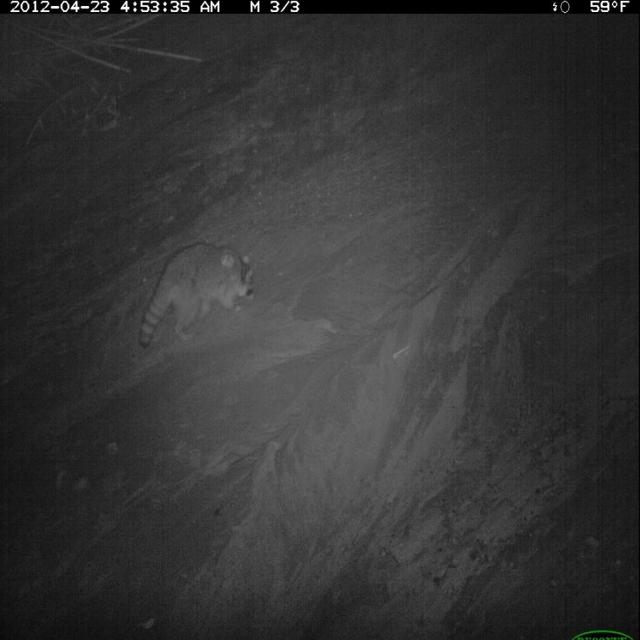raccoon: (136, 237, 259, 358)
